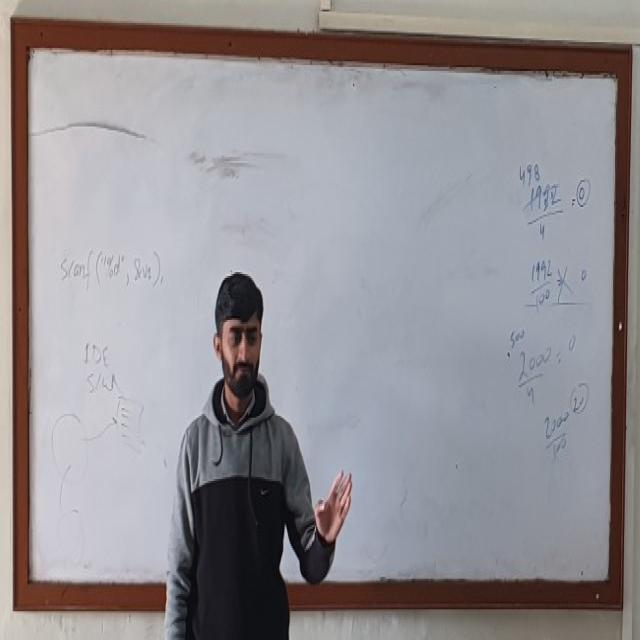Instructor: (174, 257, 302, 640)
White-board: (19, 33, 624, 596)
